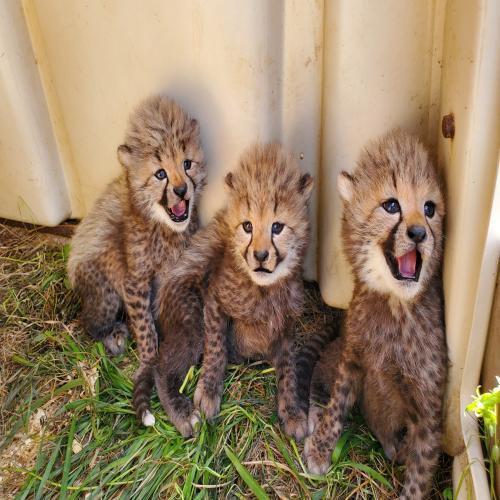cheetah-endangered: (136, 152, 310, 432), (331, 138, 448, 490), (74, 102, 200, 347)
